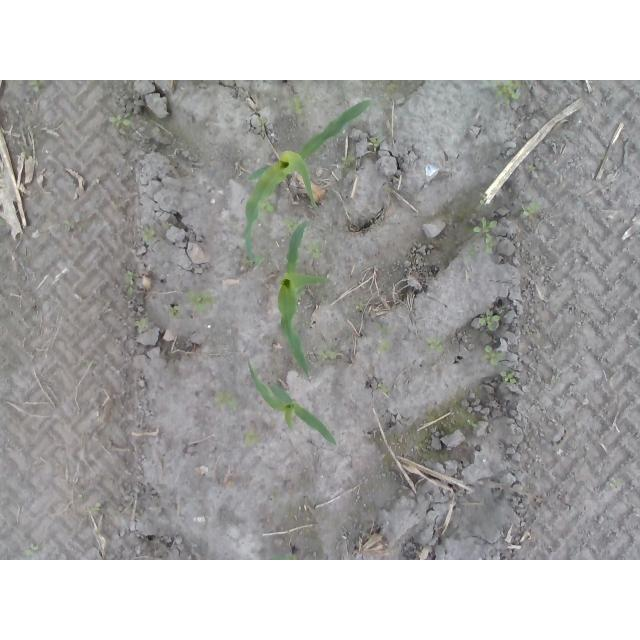Maize: (246, 98, 379, 266), (278, 221, 329, 383), (246, 358, 338, 447)
Weeds: (472, 219, 498, 257), (485, 80, 523, 105), (185, 292, 218, 317), (482, 346, 503, 371), (217, 393, 243, 412), (109, 115, 131, 134), (479, 312, 502, 330), (522, 201, 540, 221), (427, 337, 445, 357), (126, 270, 135, 298), (23, 545, 40, 559), (317, 351, 340, 361), (502, 371, 518, 385), (378, 341, 393, 355), (308, 245, 322, 260), (292, 98, 305, 114), (136, 320, 149, 336), (246, 432, 258, 449), (284, 220, 301, 232), (86, 503, 103, 514), (613, 479, 628, 490), (143, 227, 154, 242), (370, 136, 382, 149), (343, 155, 357, 166), (169, 304, 180, 317), (478, 193, 487, 207), (64, 220, 72, 233), (30, 81, 43, 88), (379, 386, 389, 395), (163, 222, 173, 230), (551, 375, 560, 383), (529, 164, 535, 173), (77, 493, 84, 499)
